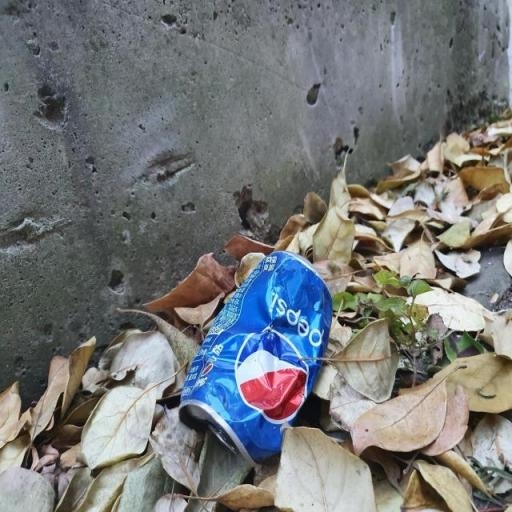metal: (174, 224, 352, 500)
